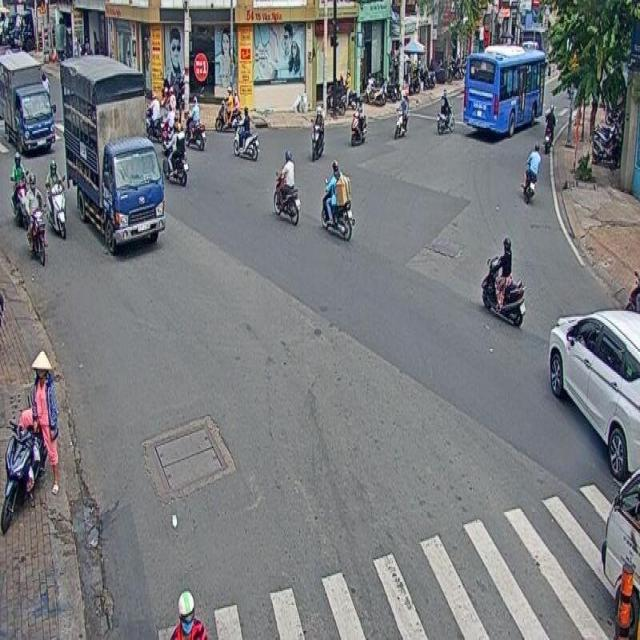car: (549, 309, 640, 480)
motorcycle: (480, 236, 526, 328), (320, 160, 354, 242), (272, 149, 300, 227), (24, 172, 46, 267), (45, 160, 67, 238), (164, 120, 188, 188), (232, 105, 258, 163), (186, 96, 207, 152), (522, 142, 540, 206), (436, 87, 455, 137), (349, 96, 366, 146), (310, 104, 324, 162), (394, 93, 408, 140)
truck: (60, 53, 165, 250)
